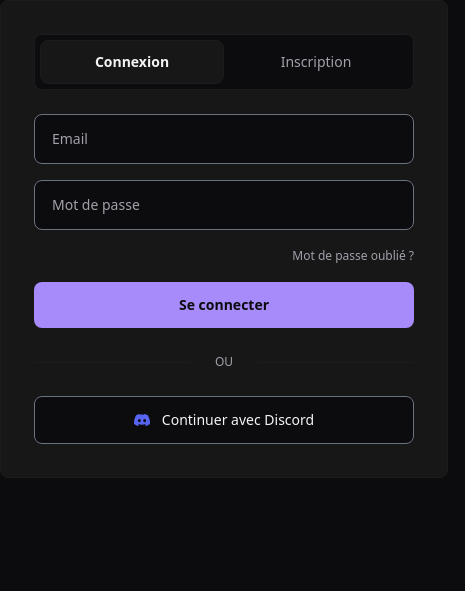
Test: AuthPanel › bascule vers le formulaire d'inscription au clic sur l'onglet
Click the tab "Inscription" at (316, 62), box [224,40,408,84]
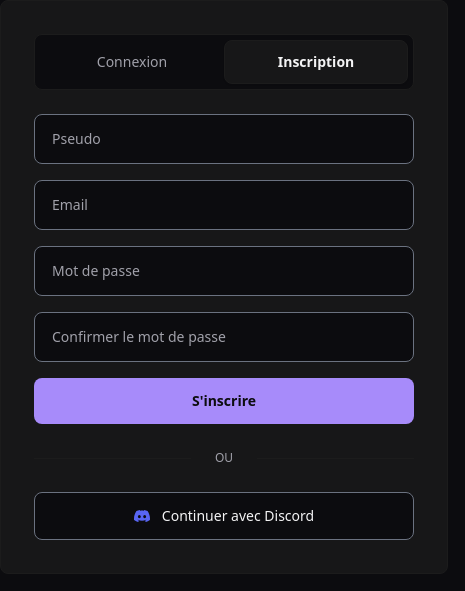
Expected: the field with placeholder "Pseudo" is shown, [34,114,414,164]
Expected: the password field with placeholder "Confirmer le mot de passe" is shown, [34,312,414,362]
Expected: the text "S'inscrire" is shown, [34,378,414,424]
